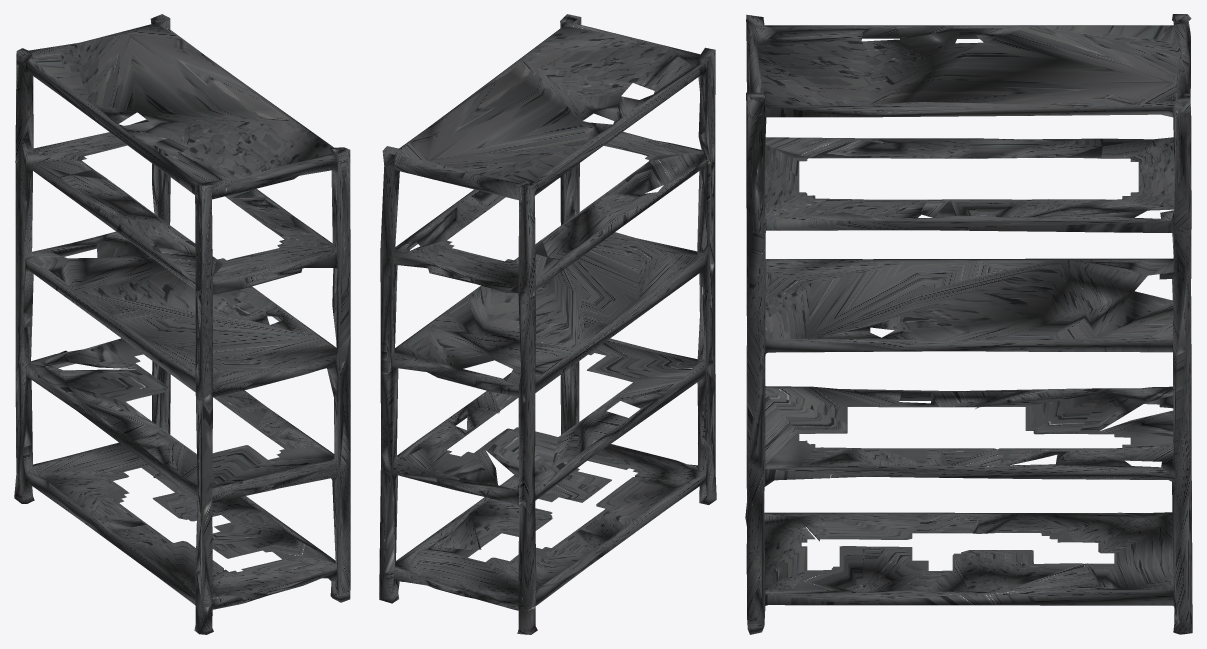
File: sci_rack.glb
3 views of the same model, side by side, from view 1: azimuth 30°, elevation 25°; view 2: azimuth 150°, elevation 25°; view 3: azimuth 270°, elevation 25° (orthographic). The views are drawn at different scales.
Visible parts, largest first — view 1: tripo_node_479f27c2-81c6-4af3-b54e-3b9f1b5bc734; view 2: tripo_node_479f27c2-81c6-4af3-b54e-3b9f1b5bc734; view 3: tripo_node_479f27c2-81c6-4af3-b54e-3b9f1b5bc734.
Part boxes in pixels (x1=…): tripo_node_479f27c2-81c6-4af3-b54e-3b9f1b5bc734: x1=14, y1=14, x2=350, y2=634; tripo_node_479f27c2-81c6-4af3-b54e-3b9f1b5bc734: x1=379, y1=14, x2=716, y2=634; tripo_node_479f27c2-81c6-4af3-b54e-3b9f1b5bc734: x1=745, y1=14, x2=1192, y2=634.
Size of the model in its own units: 0.3505 by 0.9993 by 0.7542.
Materials: 1 (1 with a texture image).
